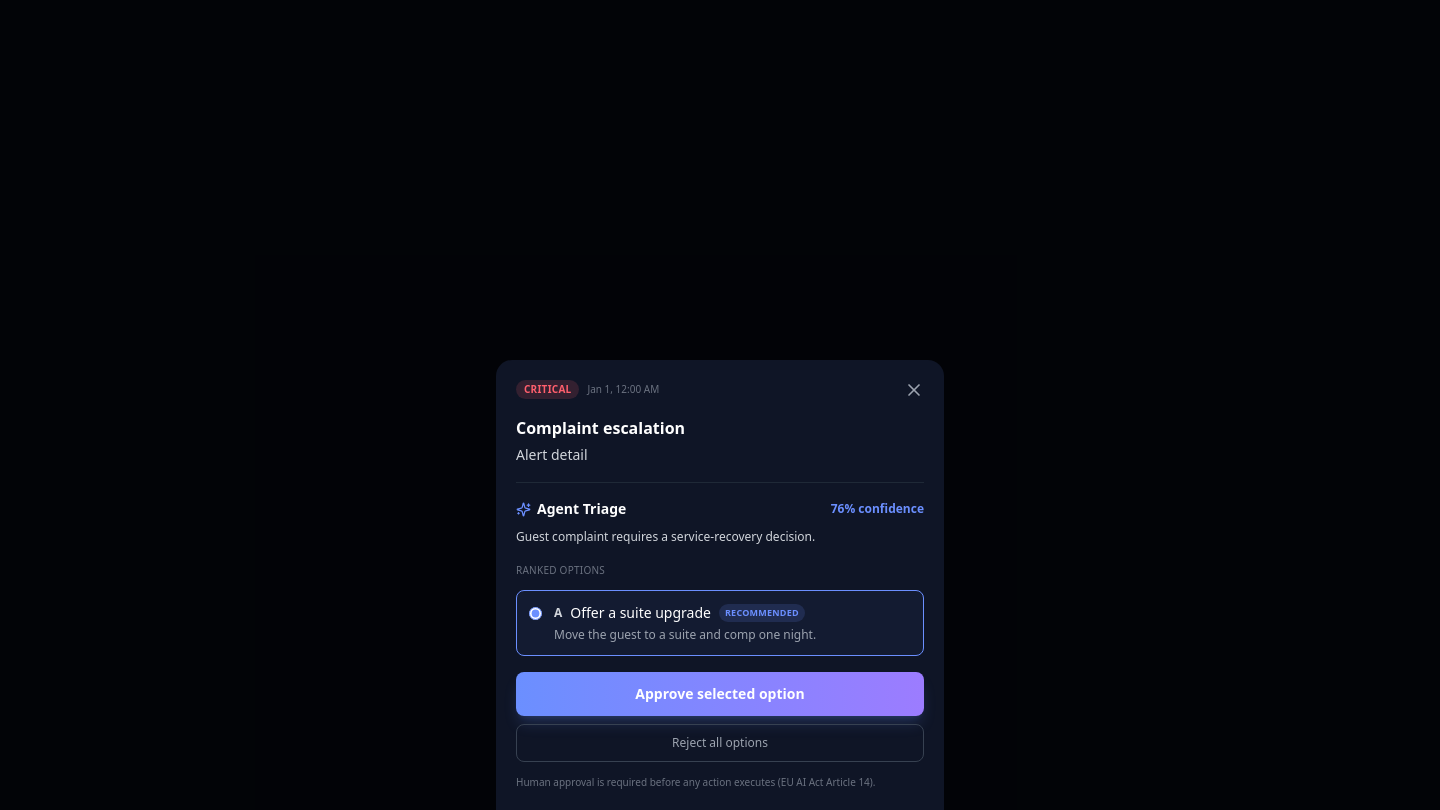
Test case: TriageModal approval outcomes (Requirement 15.8) › shows the confirmation indicator on a successful approval
Expected: the text "Offer a suite upgrade" is shown, [570,603,711,623]
What coordinates should you click on to do the following:
click the button "Approve selected option"
I would click on:
 (720, 694)
Its box is [516,672,924,716].
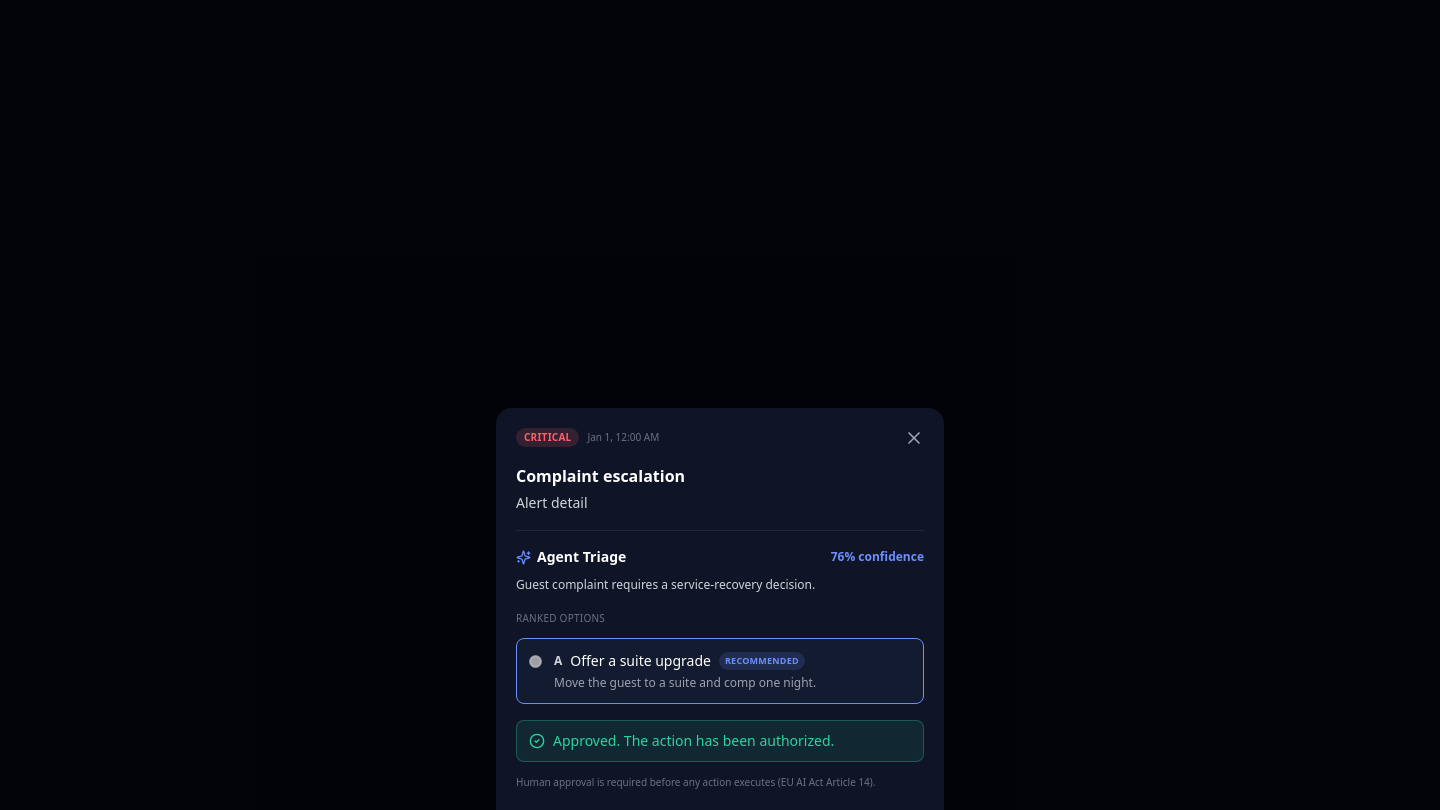
Expected: the text "Approved. The action has been authorized." is shown, [553,731,834,751]
